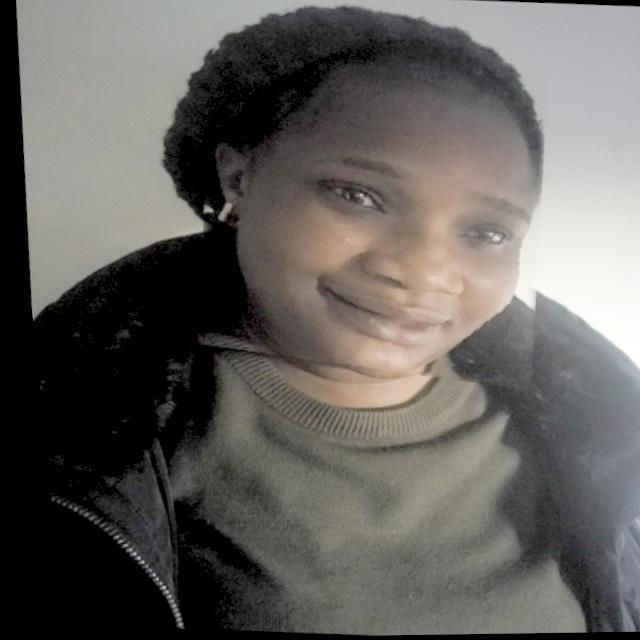happy: (169, 25, 565, 390)
